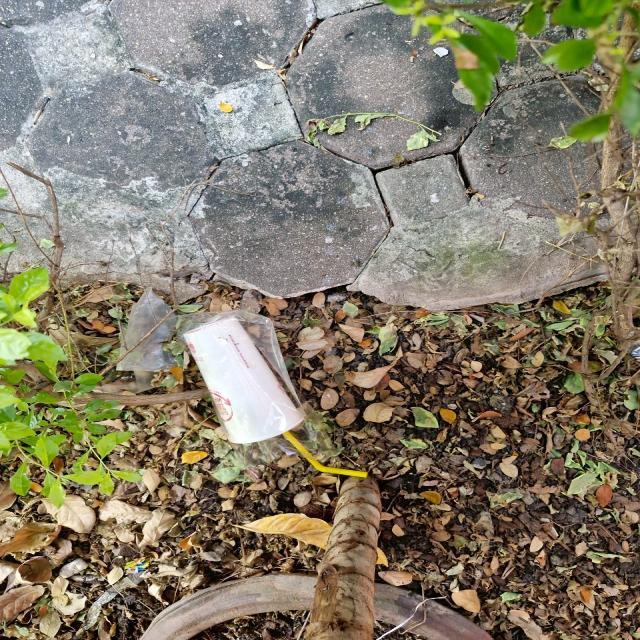paper cup: (181, 317, 307, 441)
